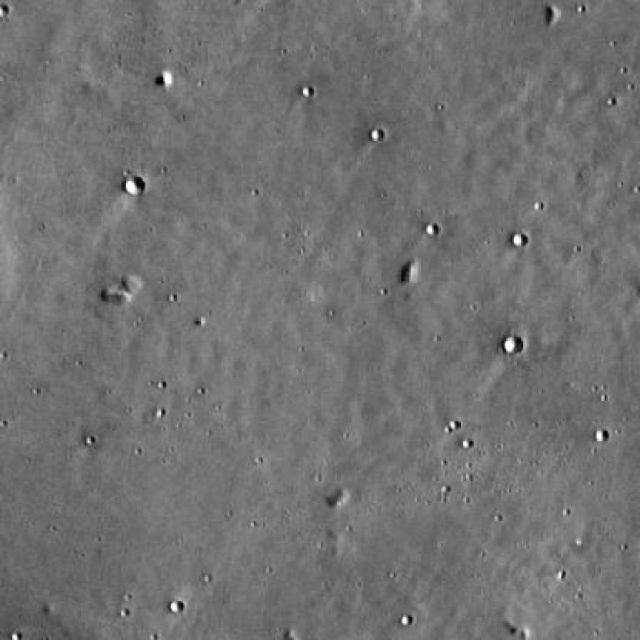crater: (124, 178, 144, 196), (503, 336, 523, 352)
